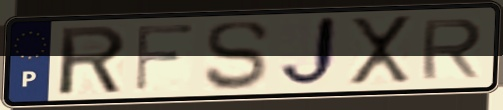F: (131, 21, 198, 94)
J: (275, 13, 341, 92)
R: (56, 22, 129, 97), (418, 16, 487, 82)
S: (202, 18, 272, 93)
X: (347, 13, 414, 89)
